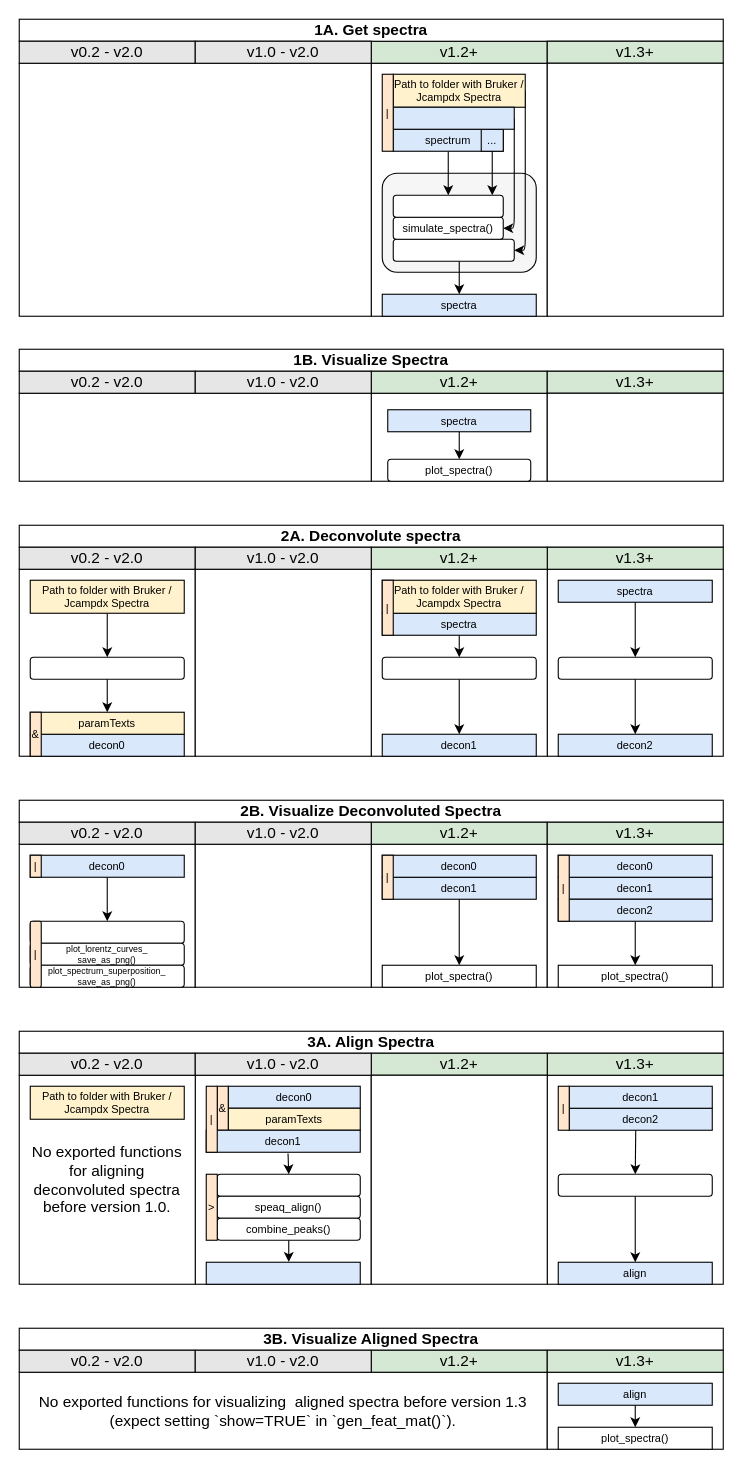
Some shapes in this 743 by 1469 pixel diagram are drawn without their labels. Each missing label, with the centre of its shape:
align(): [634,1184]
combinedPeaks: [282,1272]
deconvolute(): [634,667]
gen_feat_mat(): [288,1184]
generate_lorentz_curves(): [458,667]
make_spectra(): [447,205]
MetaboDecon1D(): [106,667]
No exported functions for reading spectra before version 1.2.: [194,189]
No exported functions for visualizing spectra before version 1.2.: [194,436]
plot_triplets(): [106,931]
read_spectra(): [453,249]
Simulation Parameters: [453,117]
